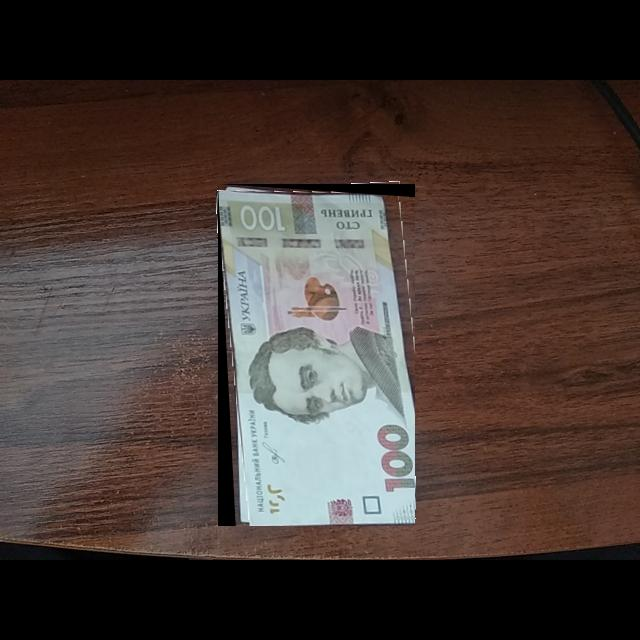100uah: (219, 191, 416, 527)
